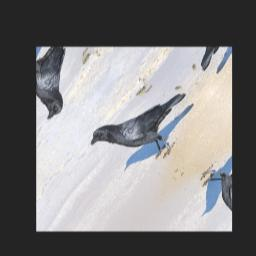Crow: (86, 68, 207, 180)
